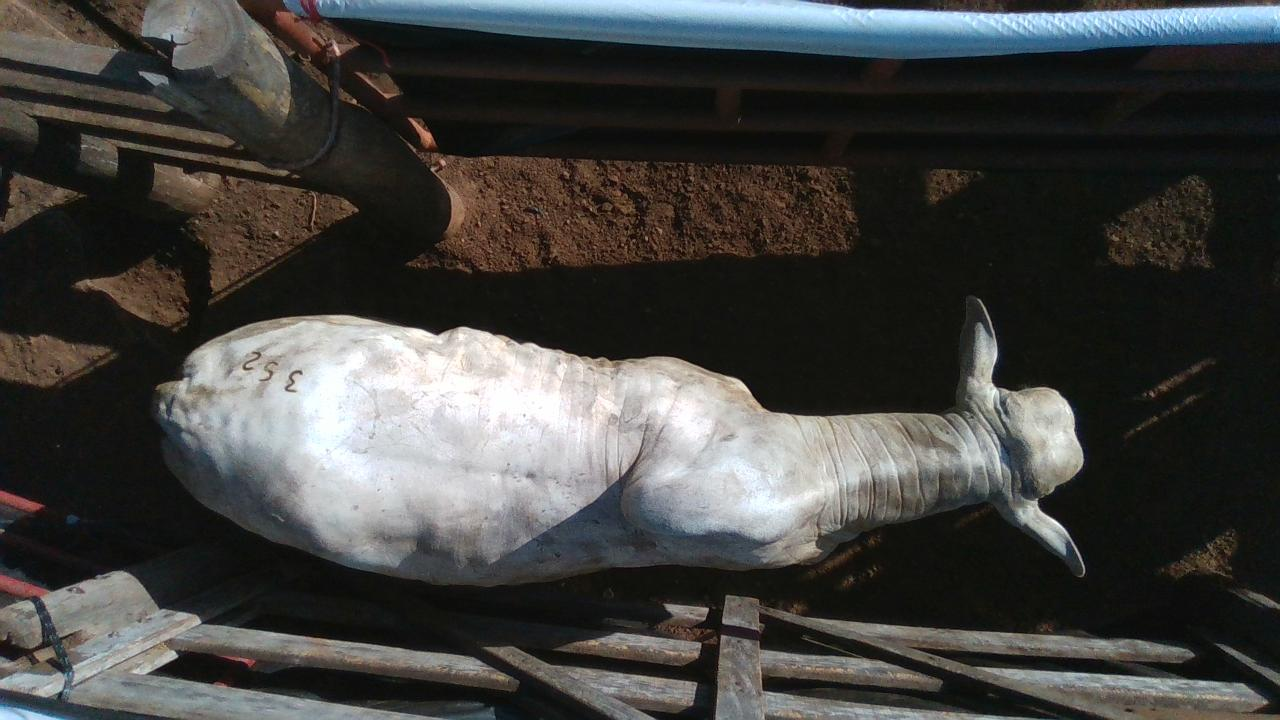cattle: (149, 294, 1088, 590)
